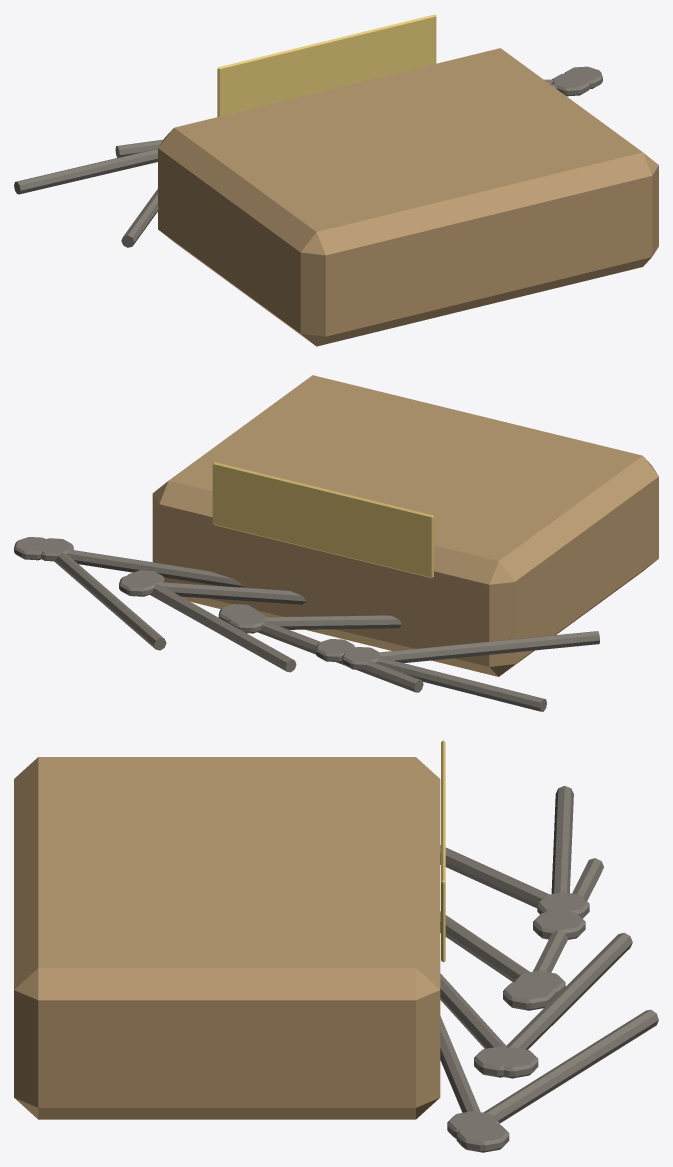
Rendered from item_nails.glb.
3 renders of one model, top to bottom at view 1: azimuth 30°, elevation 25°; view 2: azimuth 150°, elevation 25°; view 3: azimuth 270°, elevation 25°, orthographic. The views are drawn at different scales.
Visible parts, largest first — view 1: item_nails; view 2: item_nails; view 3: item_nails.
Part boxes in pixels (left/top/right/bottom): item_nails: left=14, top=14, right=658, bottom=346; item_nails: left=14, top=375, right=658, bottom=711; item_nails: left=14, top=740, right=658, bottom=1152.
Bounding box in the file's own units: 0.2774 × 0.074 × 0.2118.
